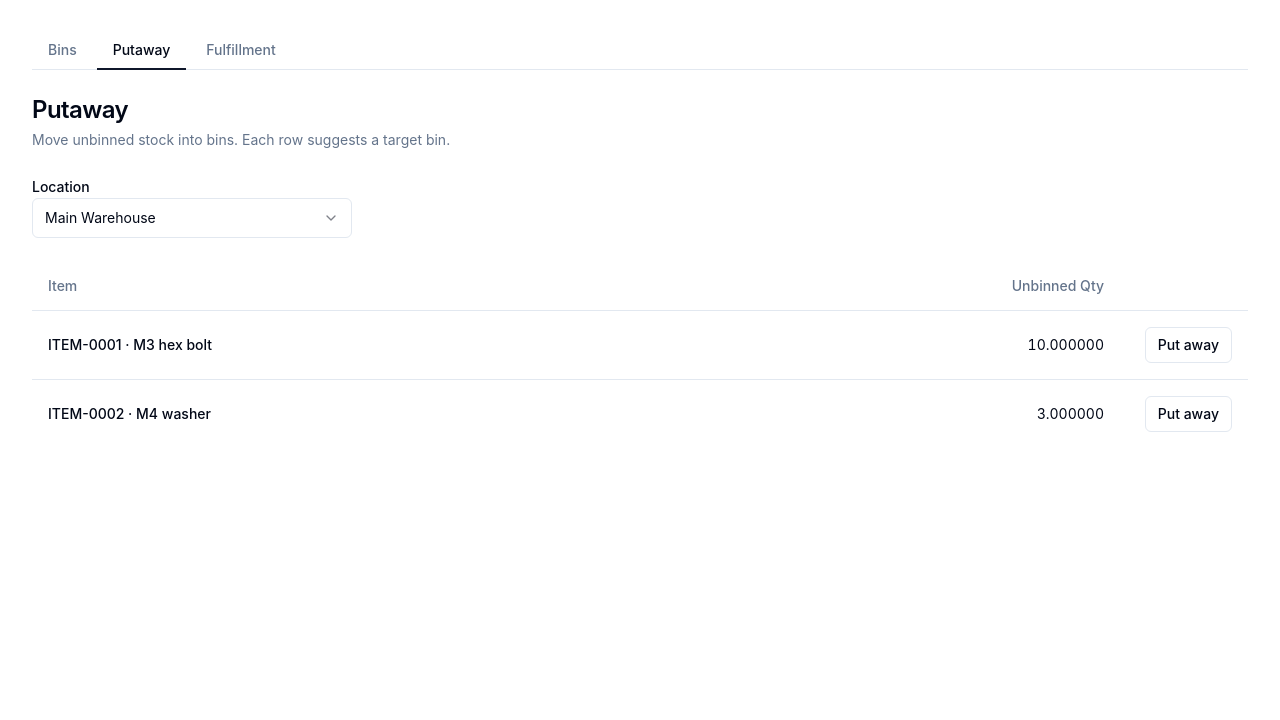
it: Putaway screen › pre-fills the suggested bin and defaults qty to the full unbinned qty
The image size is (1280, 720).
Expected: the text "ITEM-0001 · M3 hex bolt" is shown, [32,310,698,379]
Click the button "Put away" in the row of "ITEM-0001 · M3 hex bolt" at (1188, 344), box [1145,326,1232,362]
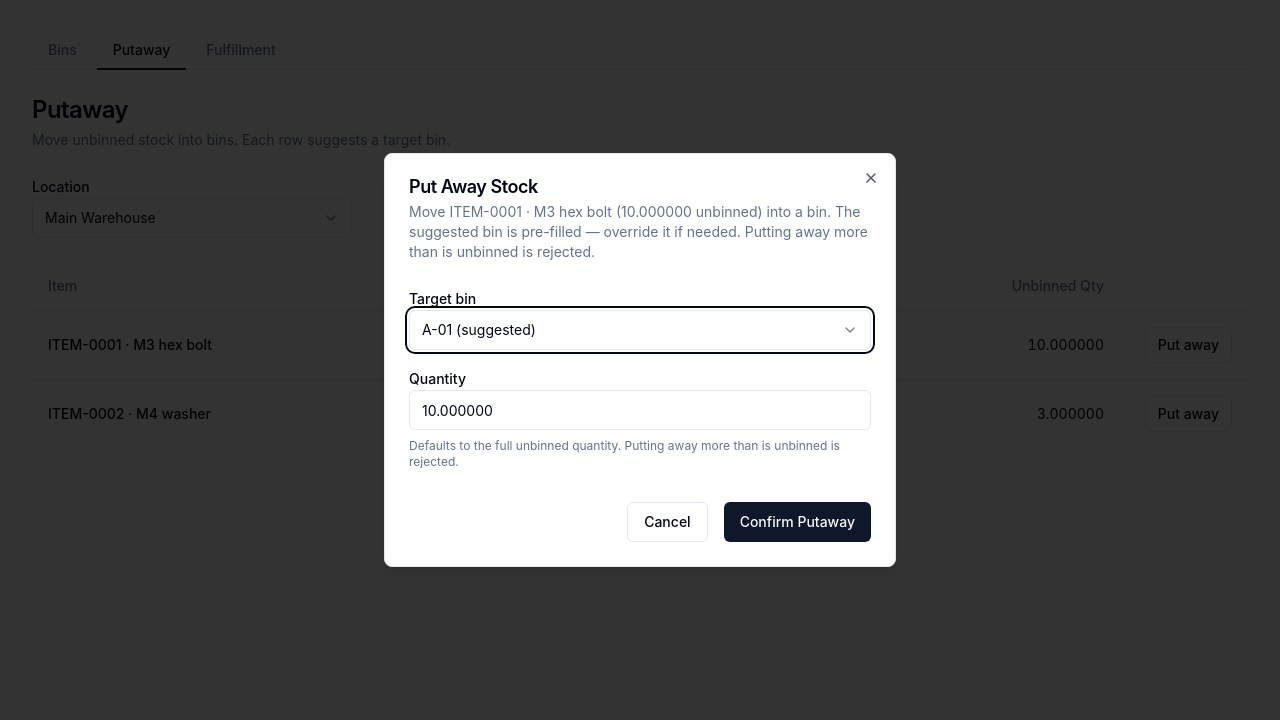
Expected: the heading "Put Away Stock" is shown, [409,176,538,197]
Expected: the field labelled "Quantity" holds "10.000000", [409,390,871,430]
Expected: the dropdown named "Target bin" shows "A-01", [409,310,871,350]
